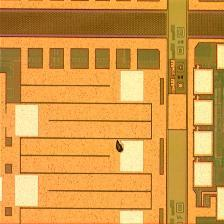PARTICLE: (114, 139, 127, 154)
